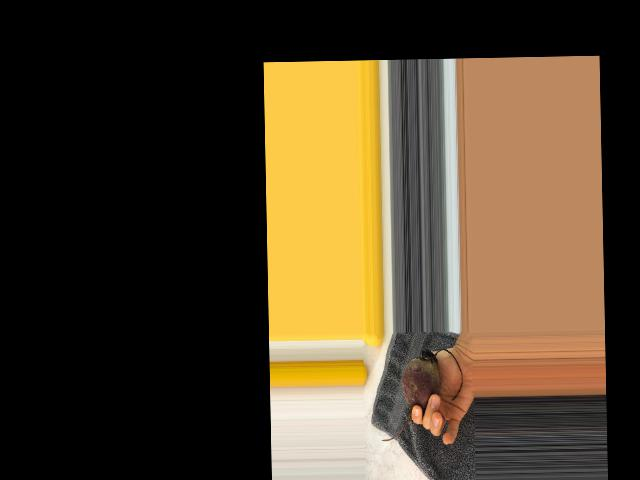beet: (380, 349, 464, 441)
